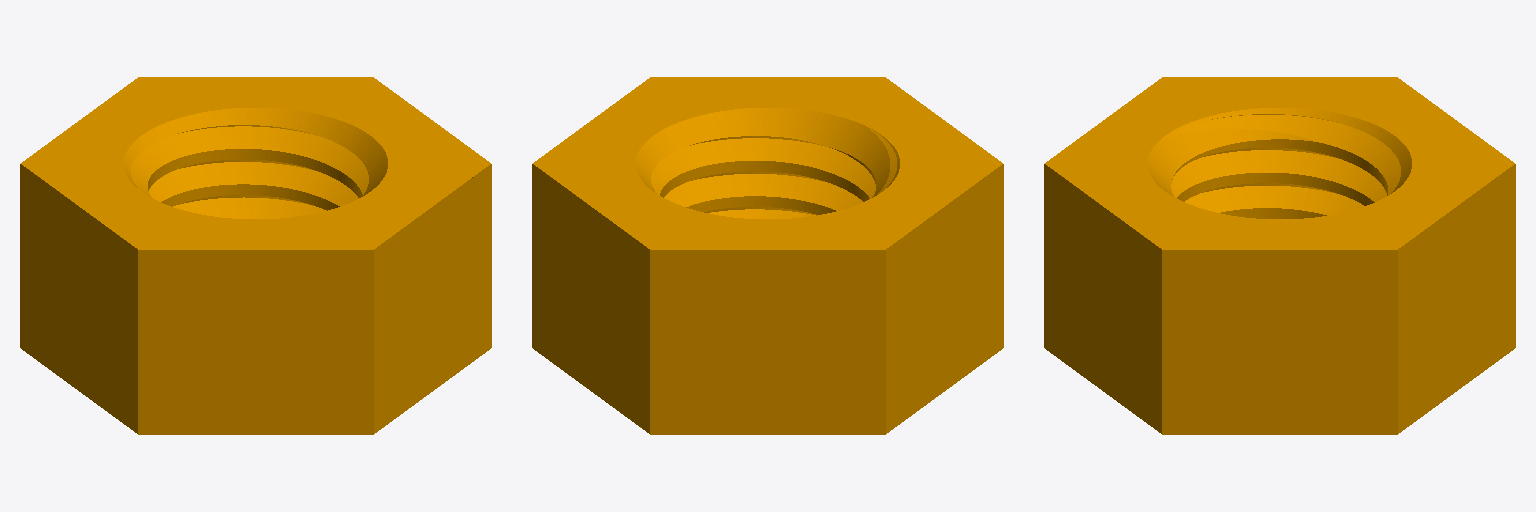
robot.urdf — factory_nut_m8_loose:
<?xml version="1.0"?>
<robot name="factory_nut_m8_loose">
    <link name="factory_nut_m8_loose">
        <visual>
            <geometry>
                <mesh filename="../mesh/factory_nut_bolt/factory_nut_m8_loose_subdiv_3x.obj"/>
            </geometry>
        </visual>
        <collision>
            <geometry>
                <mesh filename="../mesh/factory_nut_bolt/factory_nut_m8_loose_subdiv_3x.obj"/>
            </geometry>
            <sdf resolution="256"/>
        </collision>
    </link>
</robot>

--- What the picture shows (computed from the rendered views, not written in the file) ---
3 views of the same robot in one strip: view 1: azimuth 30°, elevation 25°; view 2: azimuth 150°, elevation 25°; view 3: azimuth 270°, elevation 25° (orthographic).
Model factory_nut_m8_loose with 1 links and 0 joints (none), rooted at factory_nut_m8_loose, posed all joints at 0.
Visible links, largest first — view 1: factory_nut_m8_loose; view 2: factory_nut_m8_loose; view 3: factory_nut_m8_loose.
Link boxes in pixels (box(x1,y1,x2,y2)): factory_nut_m8_loose: box(20, 77, 491, 434); factory_nut_m8_loose: box(532, 77, 1003, 434); factory_nut_m8_loose: box(1044, 77, 1515, 434).
Size in the robot's own frame: 0.013 by 0.015 by 0.0065 metres.
1 mesh visuals loaded from 1 distinct referenced files (1 OBJ).